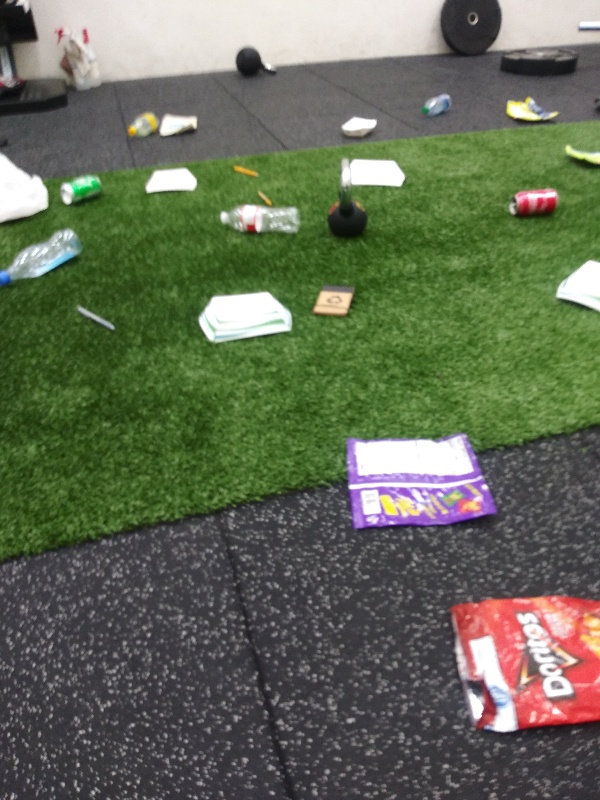bag: (448, 594, 600, 739), (339, 431, 500, 532), (501, 96, 562, 122), (560, 140, 600, 174), (157, 108, 201, 138)
bottle: (1, 225, 86, 291), (216, 201, 306, 236), (122, 108, 162, 139), (418, 90, 456, 118)
can: (57, 172, 104, 209), (506, 186, 562, 217)
plate: (194, 289, 296, 347), (553, 254, 600, 321), (346, 156, 409, 190), (141, 167, 200, 197), (336, 111, 381, 142)
